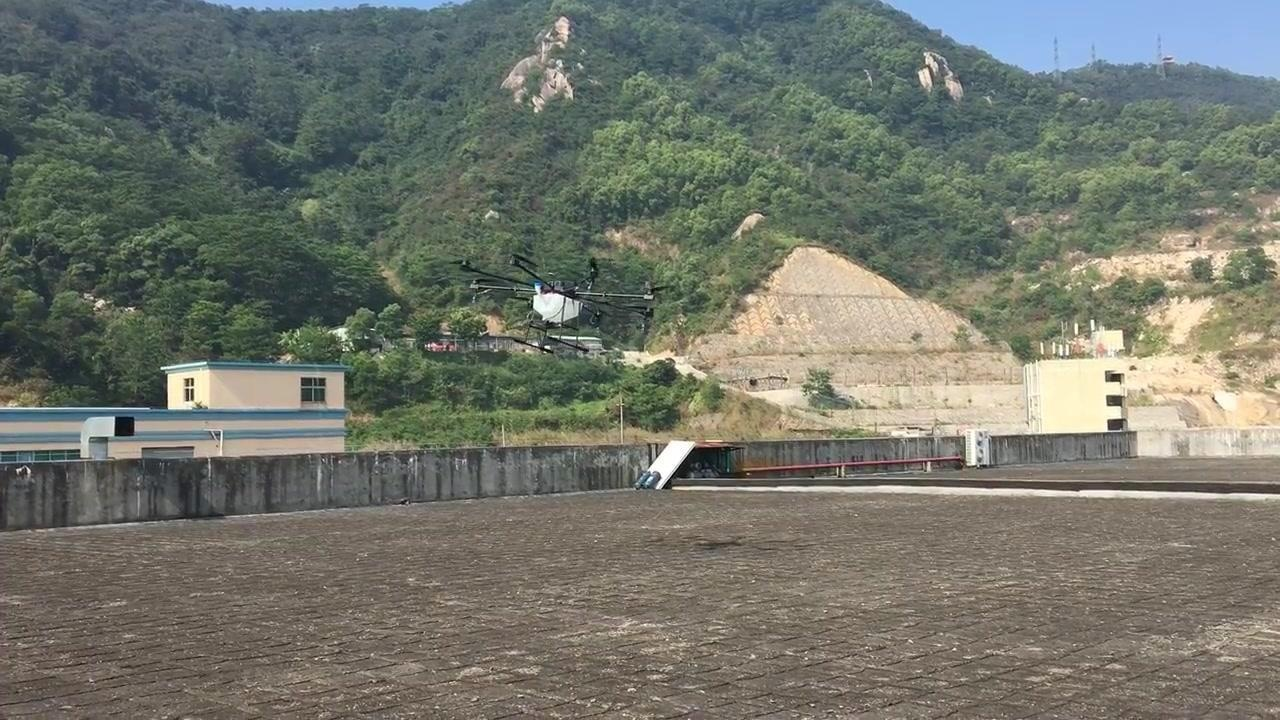UAV: (449, 253, 675, 355)
